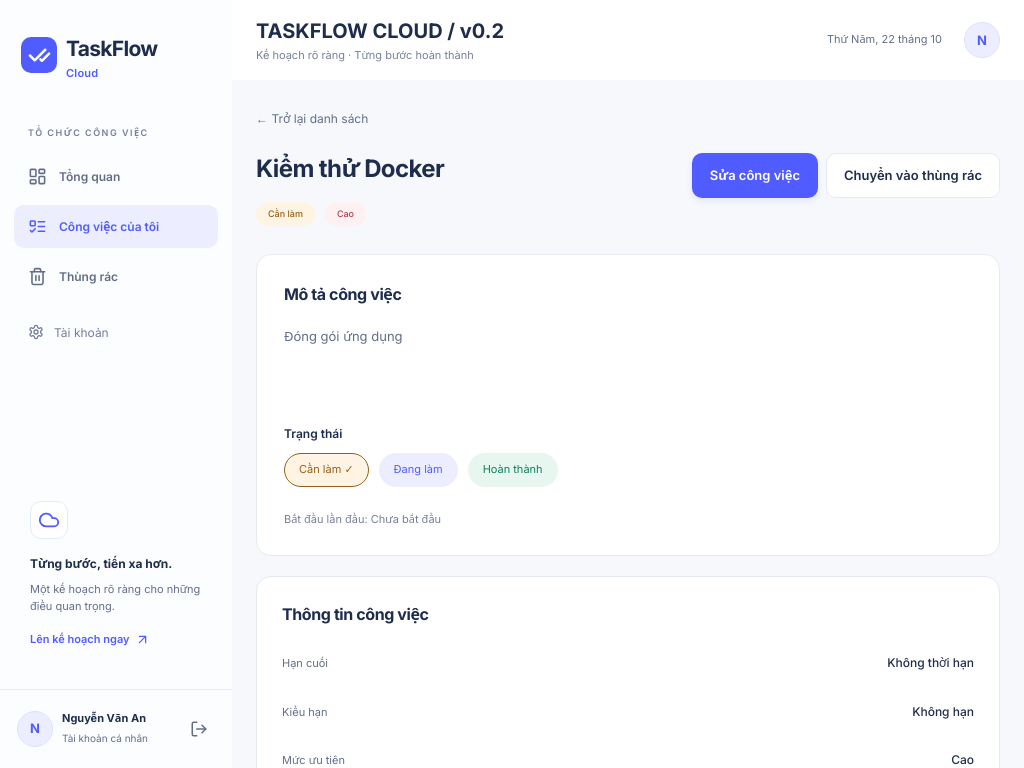
it: frontend application flows (mock HTTP, no live Atlas writes) › requires confirmation before deleting and returns to the real list result
Expected: the heading "Kiểm thử Docker" is shown, [256, 153, 444, 186]
Click the button "Chuyển vào thùng rác". click: (913, 176)
box: [826, 153, 1000, 198]
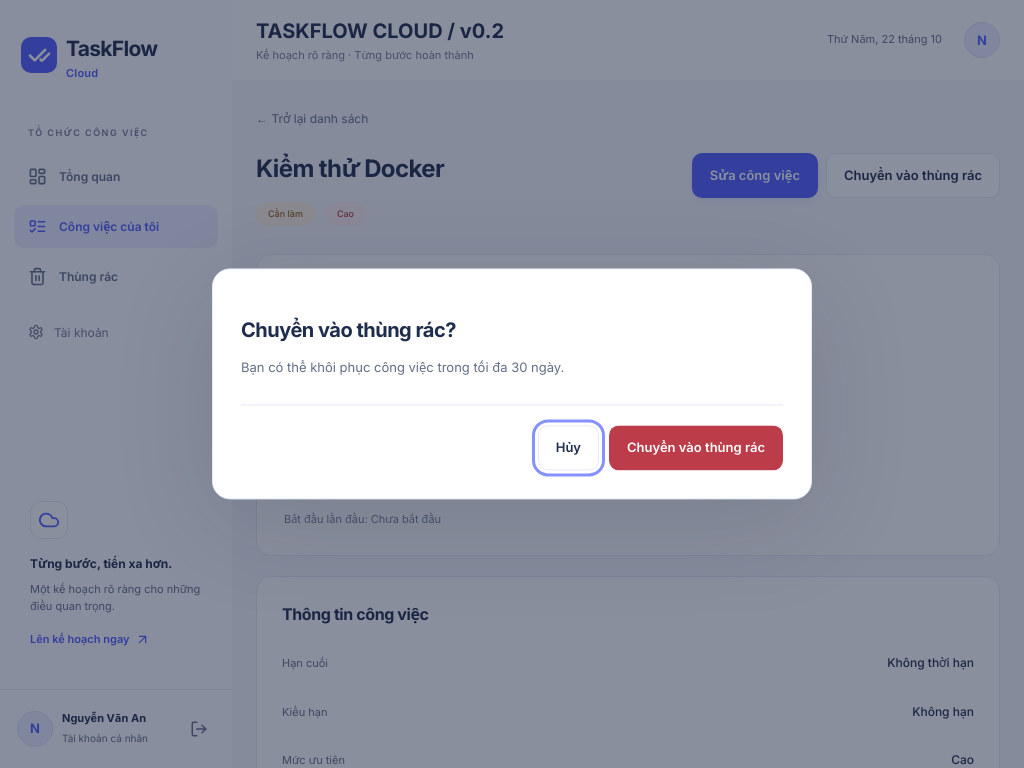
Now the dialog "Chuyển vào thùng rác?" is shown, box [212, 268, 812, 500]
Click the button "Hủy". click: (568, 448)
box: [538, 426, 599, 471]
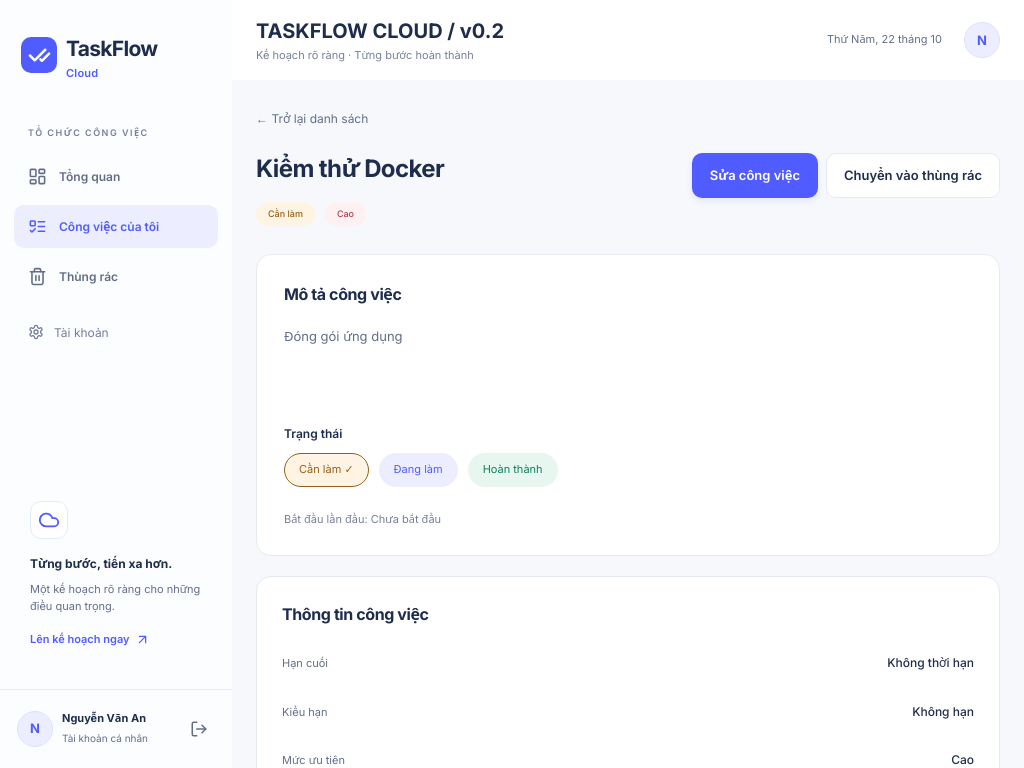
Click the button "Chuyển vào thùng rác". click: (913, 176)
box: [826, 153, 1000, 198]
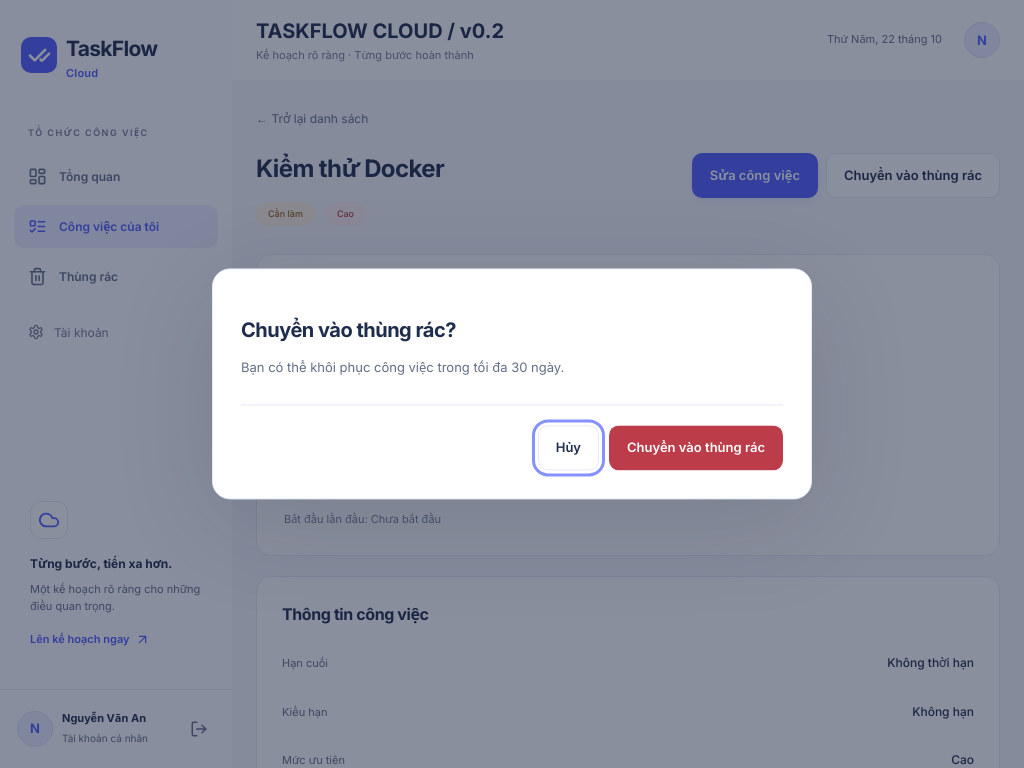
Click the button with class "button-danger". click: (696, 448)
box: [609, 426, 783, 471]
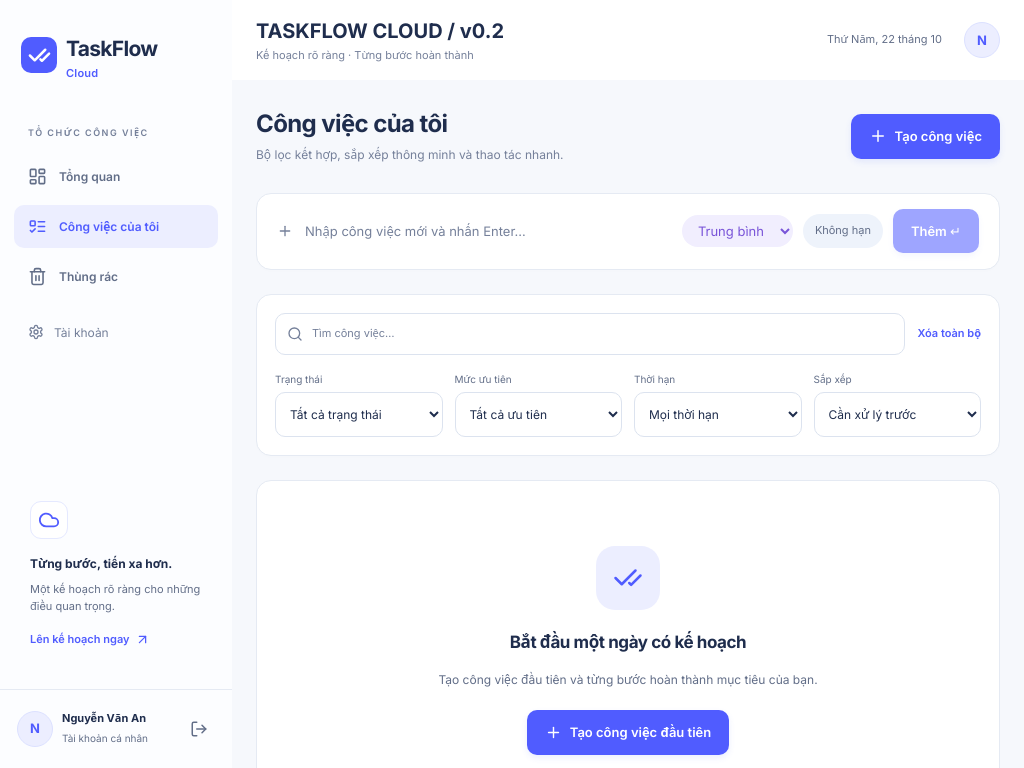
Now the heading "Công việc của tôi" is shown, box [256, 109, 447, 138]
